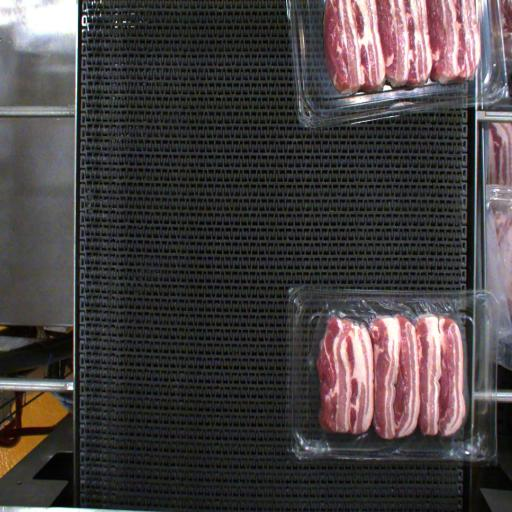unsealed: (302, 288, 474, 458)
